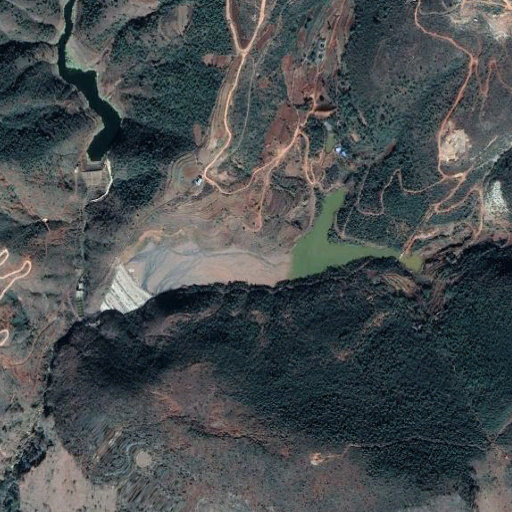tp: (101, 189, 425, 315)
